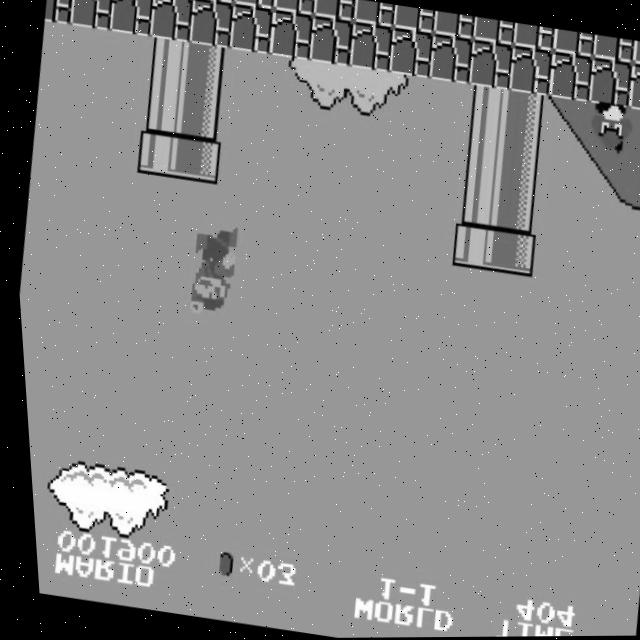0- big_mario: (178, 221, 240, 322)
14- pipe: (136, 81, 187, 134), (141, 37, 192, 89), (176, 88, 227, 140), (181, 43, 232, 95), (455, 130, 506, 182), (495, 136, 546, 188), (499, 91, 550, 143), (450, 176, 501, 227), (490, 182, 541, 233), (460, 85, 510, 137)
15- pipe_head: (486, 226, 536, 279), (132, 127, 182, 179), (446, 220, 496, 272), (172, 134, 222, 185)
17- undestructible_block: (305, 15, 356, 68), (385, 27, 436, 80), (425, 33, 476, 86), (584, 57, 635, 110), (345, 21, 396, 73), (544, 52, 595, 104), (226, 3, 276, 56), (505, 45, 555, 98), (266, 9, 316, 61), (465, 40, 515, 92), (186, 0, 237, 49), (146, 0, 196, 43), (107, 0, 157, 37), (67, 0, 117, 32), (510, 23, 556, 53), (590, 35, 636, 65), (391, 5, 436, 35), (550, 30, 596, 59), (431, 11, 476, 40), (471, 18, 516, 47), (351, 0, 397, 28), (311, 0, 356, 22), (43, 0, 76, 26), (624, 63, 640, 115), (272, 0, 317, 16), (232, 0, 277, 11), (630, 41, 640, 70)
8- goomba: (582, 101, 635, 156)
